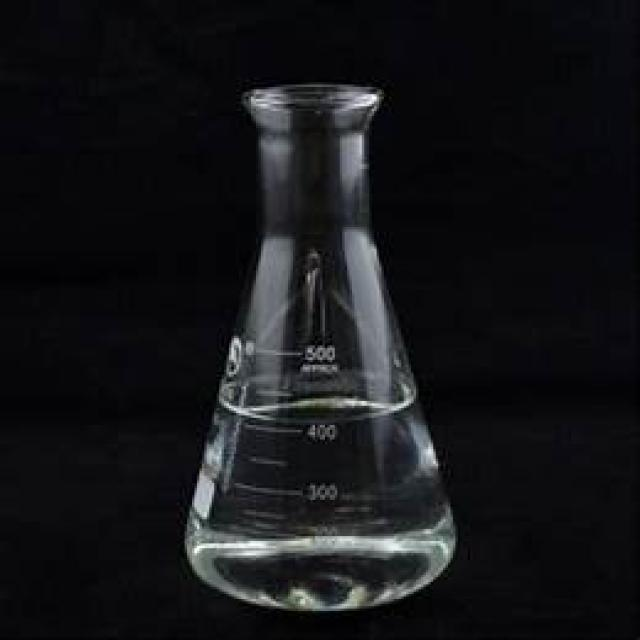Titrarion: (179, 71, 467, 613)
